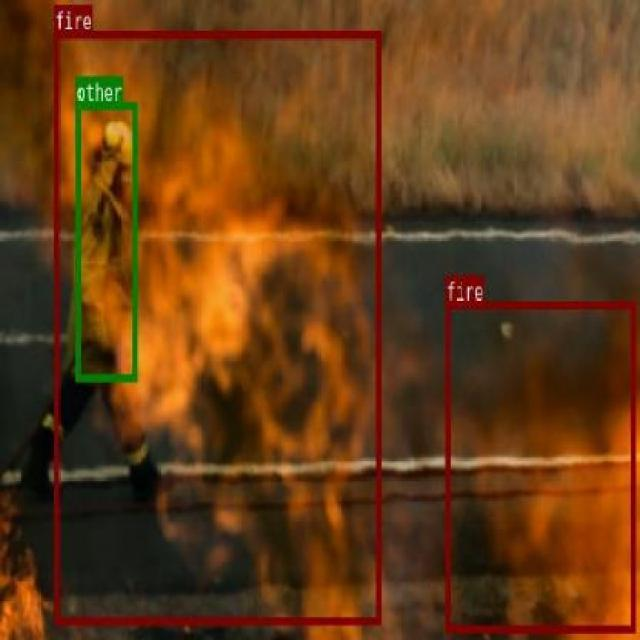Fire: (53, 29, 379, 623), (444, 300, 636, 632)
